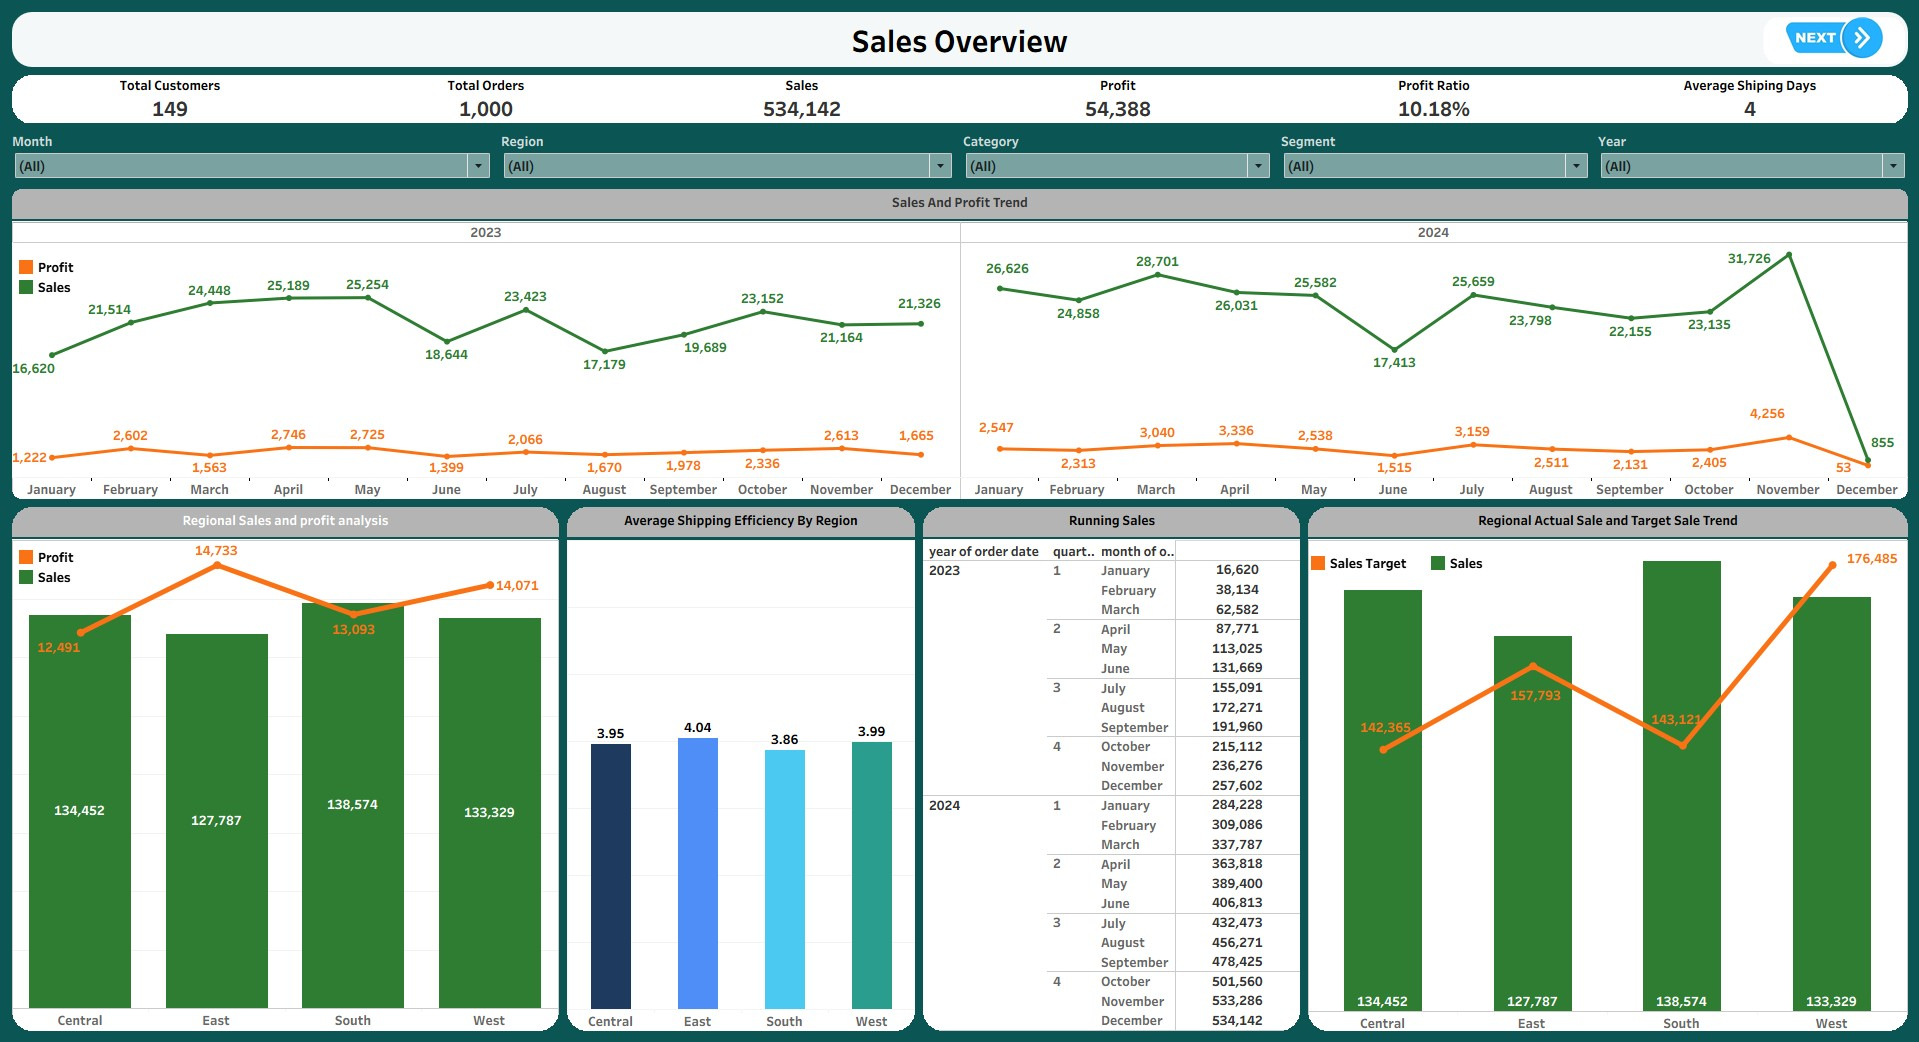

The dashboard page shown, as its layout file describes it:
{"tool":"tableau","page":{"name":"Dashboard 1","canvas":[1000,1000],"units":"permille","ordinal":0},"visuals":[{"type":"title","box":[4.8,9.4,990.4,60.2]},{"type":"dashboard-object","box":[918.2,14.1,74.1,49.4]},{"type":"worksheet","title":"kpi","mark":"Automatic","box":[4.8,69.6,990.4,54.8]},{"type":"filter","title":"1","param":"[federated.1q288ys0k7e3qc0zwxb7v0koqdo2].[none:Calculation_1747154220670980:nk]","box":[4.8,124.4,254.3,53.7]},{"type":"filter","title":"10","param":"[federated.1q288ys0k7e3qc0zwxb7v0koqdo2].[none:Region:nk]","box":[259.1,124.4,240.4,53.7]},{"type":"filter","title":"1","param":"[federated.1q288ys0k7e3qc0zwxb7v0koqdo2].[none:Category:nk]","box":[499.4,124.4,165.2,53.7]},{"type":"filter","title":"1","param":"[federated.1q288ys0k7e3qc0zwxb7v0koqdo2].[none:Segment:nk]","box":[664.7,124.4,165.2,53.7]},{"type":"filter","title":"1","param":"[federated.1q288ys0k7e3qc0zwxb7v0koqdo2].[none:Calculation_1747154220519427:nk]","box":[829.9,124.4,165.3,53.7]},{"type":"worksheet","title":"1","mark":"Line","rows":["Sales","Profit"],"cols":["Calculation_1747154220519427","Calculation_1747154220670980"],"box":[4.8,178.1,990.4,304.4]},{"type":"legend","title":"1","param":"[federated.1q288ys0k7e3qc0zwxb7v0koqdo2].[:Measure Names]","box":[8.4,246.8,84.5,47]},{"type":"worksheet","title":"2","mark":"Bar","rows":["Sales","Profit"],"cols":["Region"],"box":[4.8,482.6,288.6,508.1]},{"type":"worksheet","title":"10","mark":"Automatic","rows":["Calculation_1197128828899332"],"cols":["Region"],"box":[293.4,482.6,185.2,508.1]},{"type":"worksheet","title":"19","mark":"Automatic","rows":["Calculation_1747154220519427","Calculation_1747154224541704","Calculation_1747154220670980"],"box":[478.6,482.6,200.6,508.1]},{"type":"worksheet","title":"13","mark":"Line","rows":["Sales","Sales_Target"],"cols":["Region"],"box":[679.2,482.6,316,508.1]},{"type":"legend","title":"2","param":"[federated.1q288ys0k7e3qc0zwxb7v0koqdo2].[:Measure Names]","box":[8.4,524.1,108,54.1]},{"type":"legend","title":"13","param":"[federated.1q288ys0k7e3qc0zwxb7v0koqdo2].[:Measure Names]","box":[681.1,530,153.1,40]}]}

Visuals, with their boxes on the dashboard's canvas, which has no fixed pixel size, in thousandths of its width and height (x1, y1, x2, y2). These are canvas units, not pixel positions in the 1919x1042 screenshot, which may show the page scaled, cropped or inside an application window:
title: bbox=(5, 9, 995, 70)
dashboard-object: bbox=(918, 14, 992, 64)
"kpi" worksheet: bbox=(5, 70, 995, 124)
"1" filter: bbox=(5, 124, 259, 178)
"10" filter: bbox=(259, 124, 500, 178)
"1" filter: bbox=(499, 124, 665, 178)
"1" filter: bbox=(665, 124, 830, 178)
"1" filter: bbox=(830, 124, 995, 178)
"1" worksheet (Line marks): bbox=(5, 178, 995, 482)
"1" legend: bbox=(8, 247, 93, 294)
"2" worksheet (Bar marks): bbox=(5, 483, 293, 991)
"10" worksheet: bbox=(293, 483, 479, 991)
"19" worksheet: bbox=(479, 483, 679, 991)
"13" worksheet (Line marks): bbox=(679, 483, 995, 991)
"2" legend: bbox=(8, 524, 116, 578)
"13" legend: bbox=(681, 530, 834, 570)
